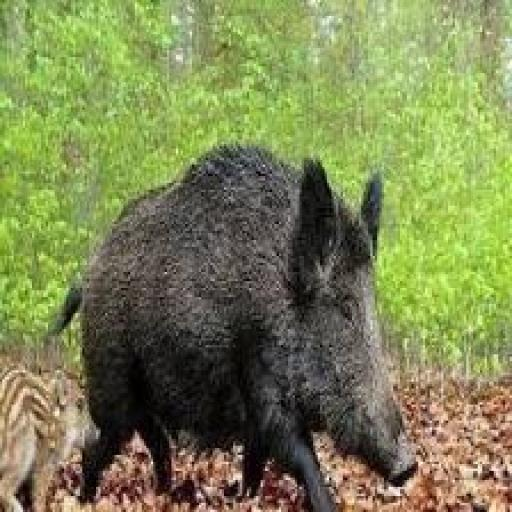Pig: (48, 132, 421, 512), (0, 359, 103, 512)
